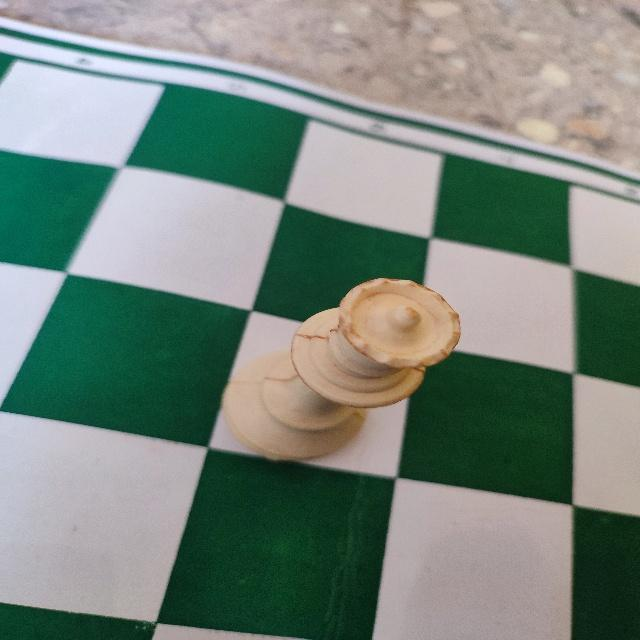Queen: (217, 273, 462, 464)
